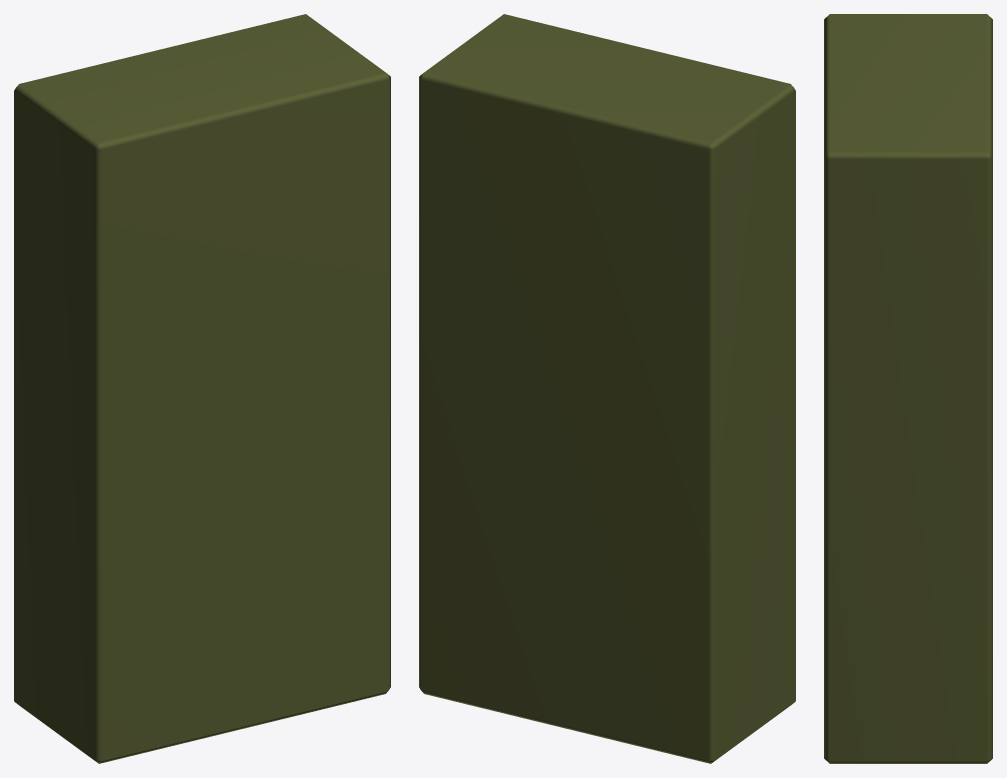
Rendered from Block2x1x4_V02.fbx.
The picture shows the model from 3 angles, left to right: view 1: azimuth 30°, elevation 25°; view 2: azimuth 150°, elevation 25°; view 3: azimuth 270°, elevation 25°; orthographic projection.
Visible parts, largest first — view 1: Block2x1x4Inch; view 2: Block2x1x4Inch; view 3: Block2x1x4Inch.
Boxes of the visible parts, x1,y1,x2,y2 form: Block2x1x4Inch: (14,14,390,763); Block2x1x4Inch: (419,14,795,763); Block2x1x4Inch: (824,14,992,763).
Size of the model in its own units: 508 by 1016 by 254.
